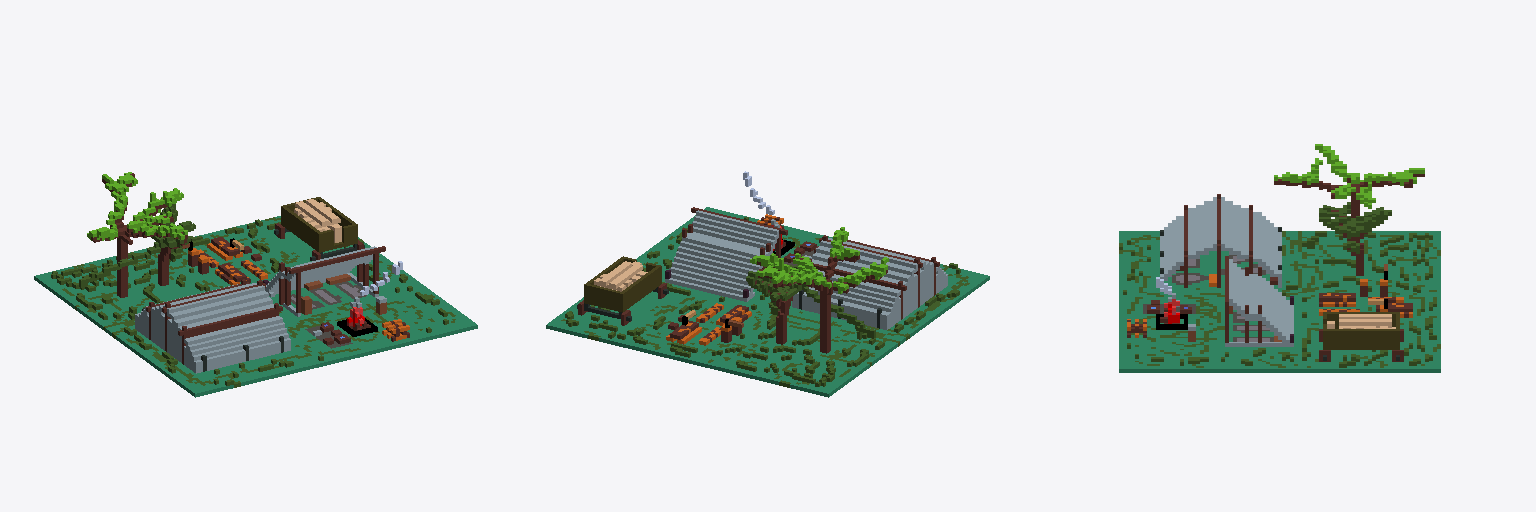
The picture shows the model from 3 angles: view 1: azimuth 30°, elevation 25°; view 2: azimuth 150°, elevation 25°; view 3: azimuth 270°, elevation 25°; orthographic projection.
Visible parts, largest first — view 1: object 1; view 2: object 1; view 3: object 1.
Part boxes in pixels (bbox=[...]): object 1: bbox=[34, 172, 477, 397]; object 1: bbox=[546, 171, 989, 397]; object 1: bbox=[1119, 144, 1440, 372].
Size of the model in its own units: 8 by 2.6 by 7.9.
1 materials, 1 textured.